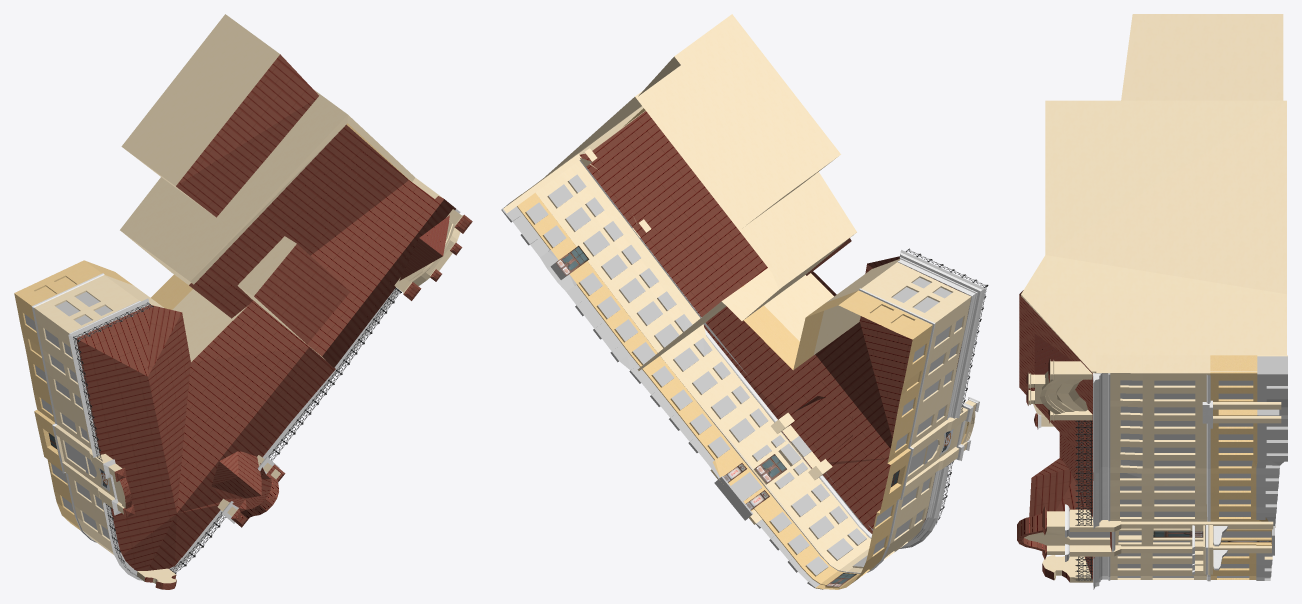
File: Lai1.obj
3 renders of one model, left to right at view 1: azimuth 30°, elevation 25°; view 2: azimuth 150°, elevation 25°; view 3: azimuth 270°, elevation 25°, orthographic. The views are drawn at different scales.
Parts seen in each view (by area): view 1: Lai01; view 2: Lai01; view 3: Lai01.
Part boxes in pixels (x1=…): Lai01: x1=14, y1=14, x2=472, y2=589; Lai01: x1=501, y1=14, x2=988, y2=589; Lai01: x1=1017, y1=14, x2=1287, y2=589.
Bounding box in the file's own units: 43.9 × 51.61 × 19.14.
